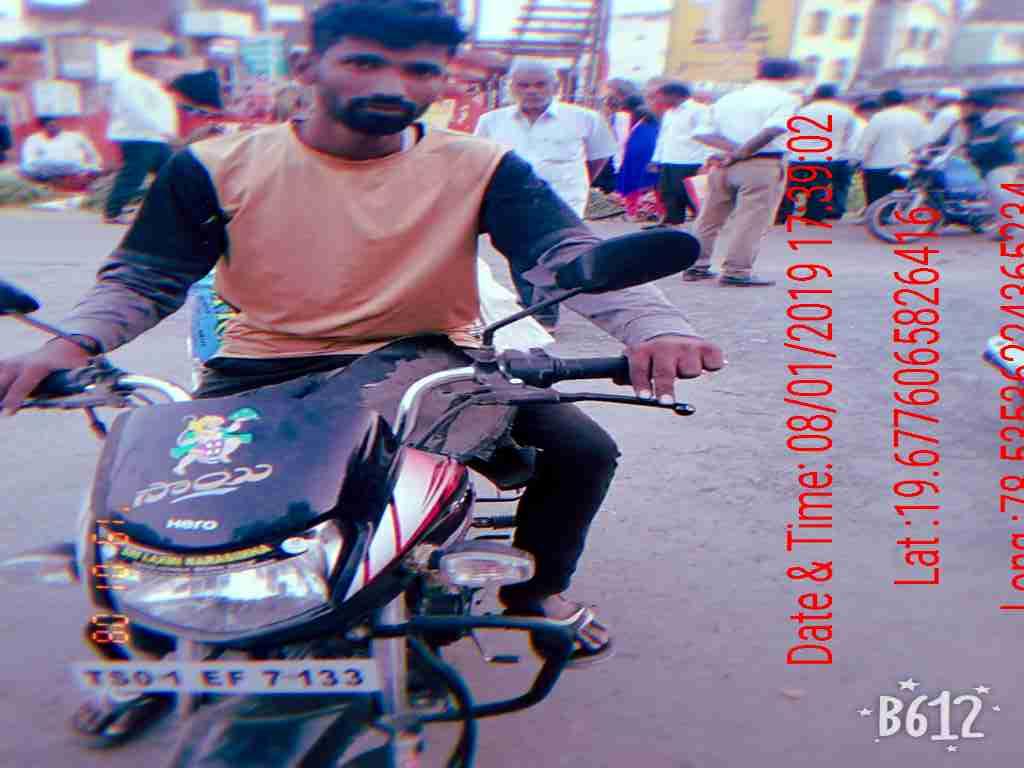plate: (71, 655, 389, 700)
